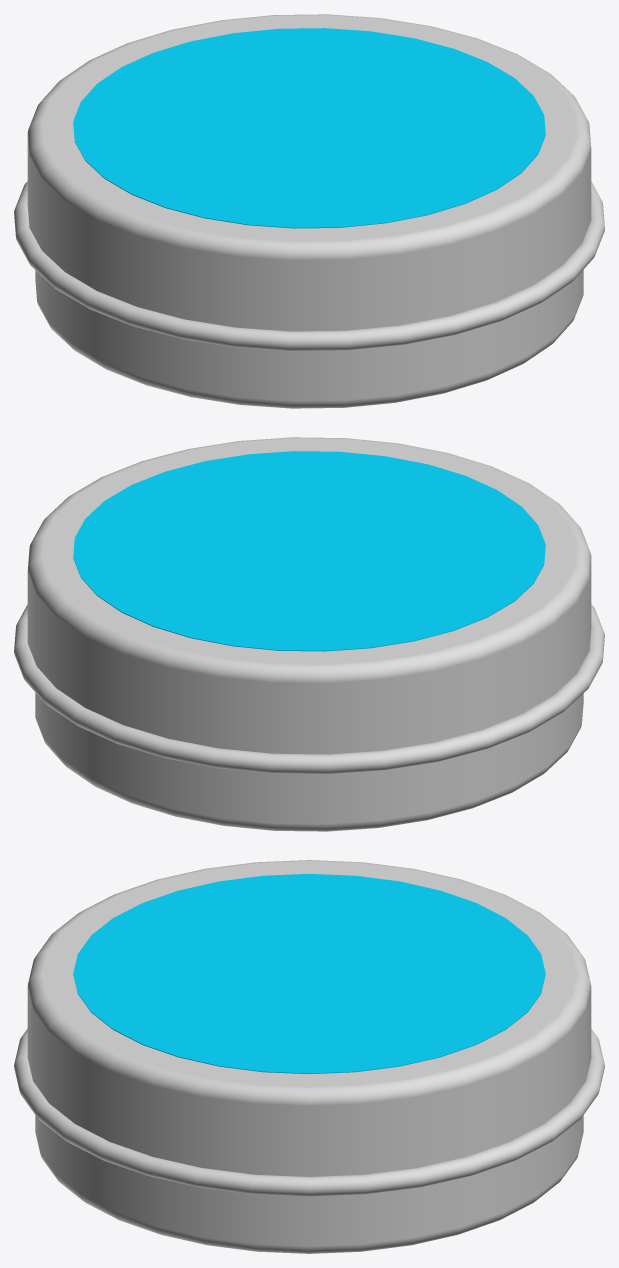
The model's file is ink.glb.
The picture shows the model from 3 angles, top to bottom: view 1: azimuth 30°, elevation 25°; view 2: azimuth 150°, elevation 25°; view 3: azimuth 270°, elevation 25°; orthographic projection.
Parts seen in each view (by area): view 1: object2, object1; view 2: object2, object1; view 3: object2, object1.
Boxes of the visible parts, box(x1,y1,x2,y2) form: object2: box(14, 14, 604, 408); object1: box(73, 28, 545, 228); object2: box(14, 437, 604, 831); object1: box(73, 451, 545, 651); object2: box(14, 860, 604, 1253); object1: box(73, 873, 545, 1074).
Bounding box in the file's own units: 9.89 × 3.12 × 9.89.
